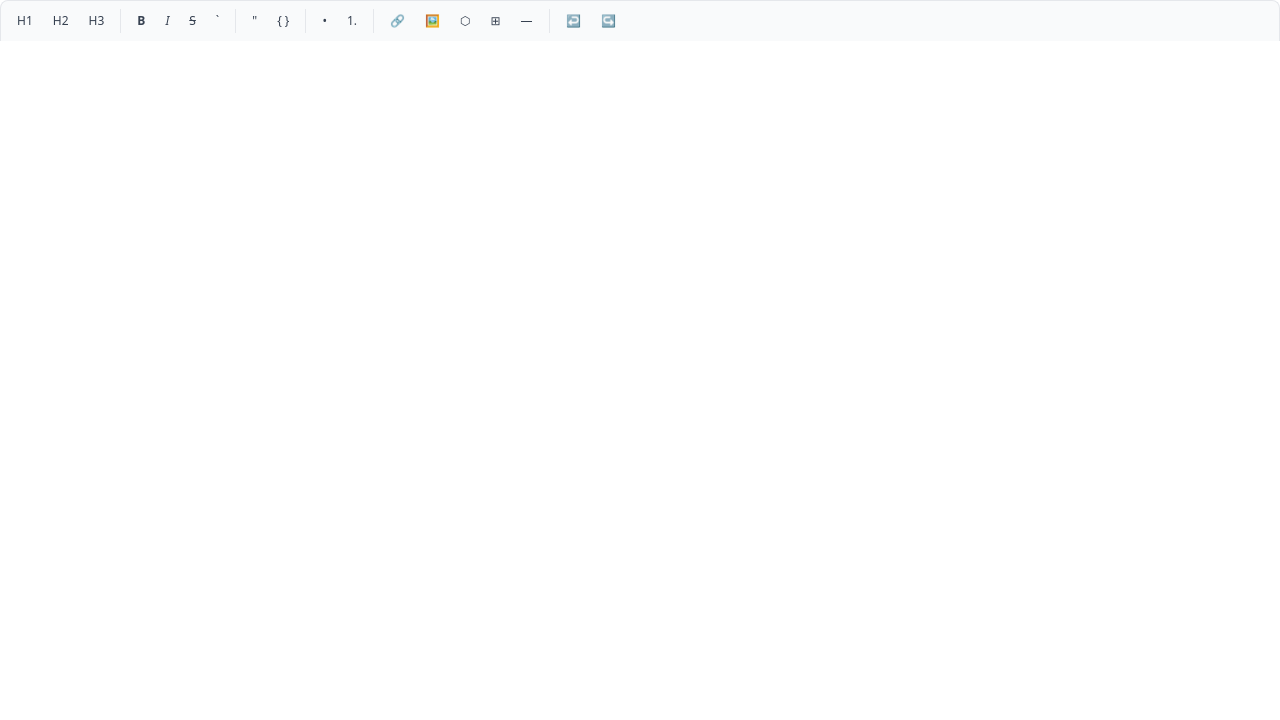
RichTextToolbar › dialog Cancel button closes dialog
Step 1. Click the button titled "圖片" → (432, 21), box [417, 9, 448, 33]
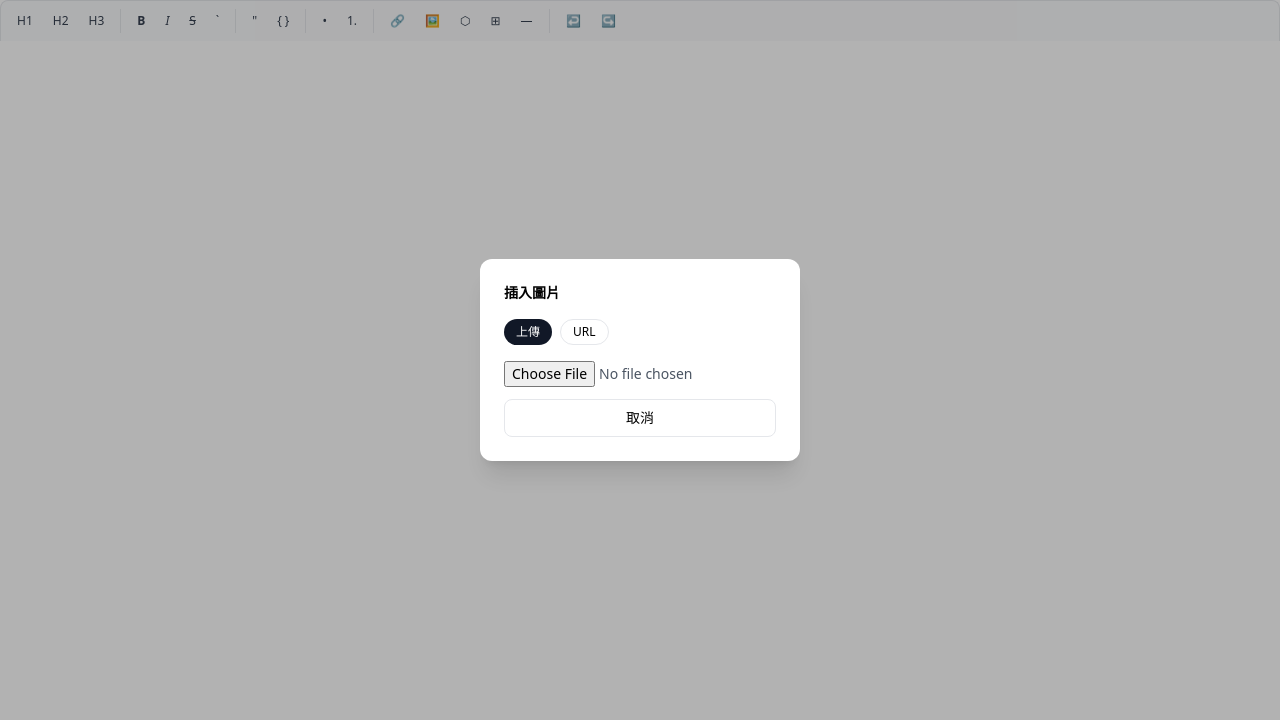
Step 2. Click the button "取消" → (640, 418), box [504, 399, 776, 437]
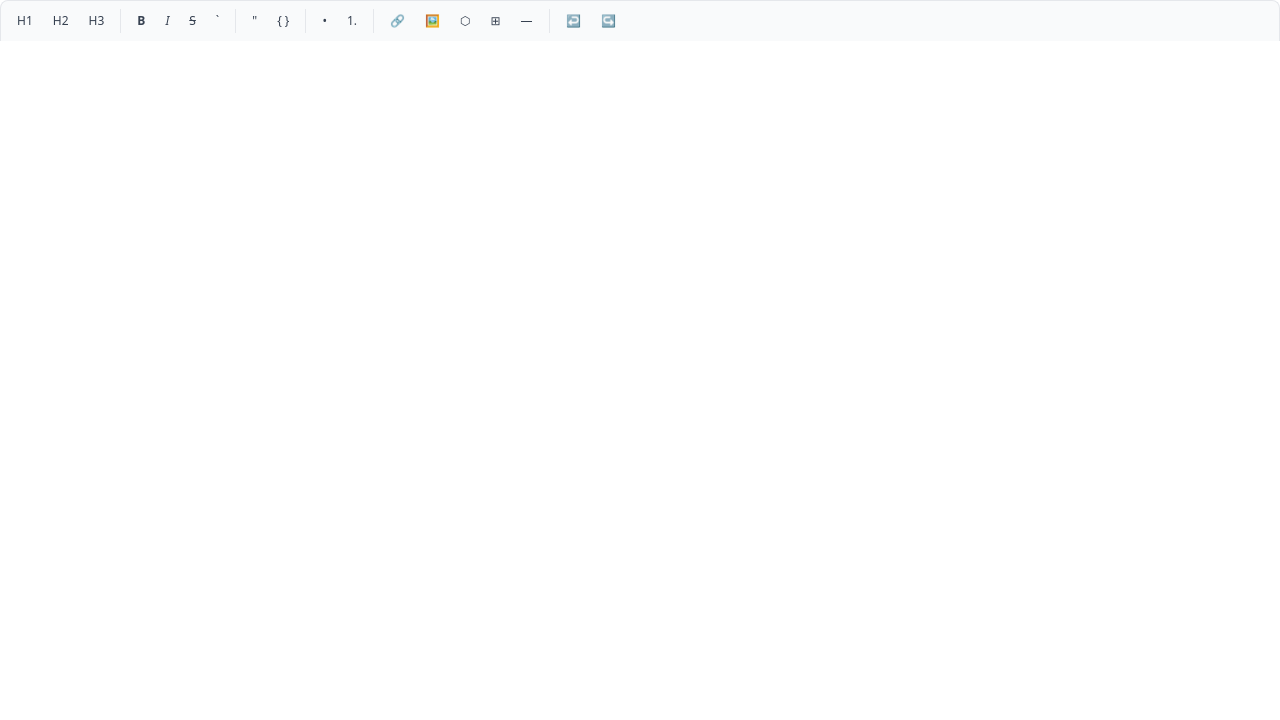
Expected: the heading "插入圖片" is gone
